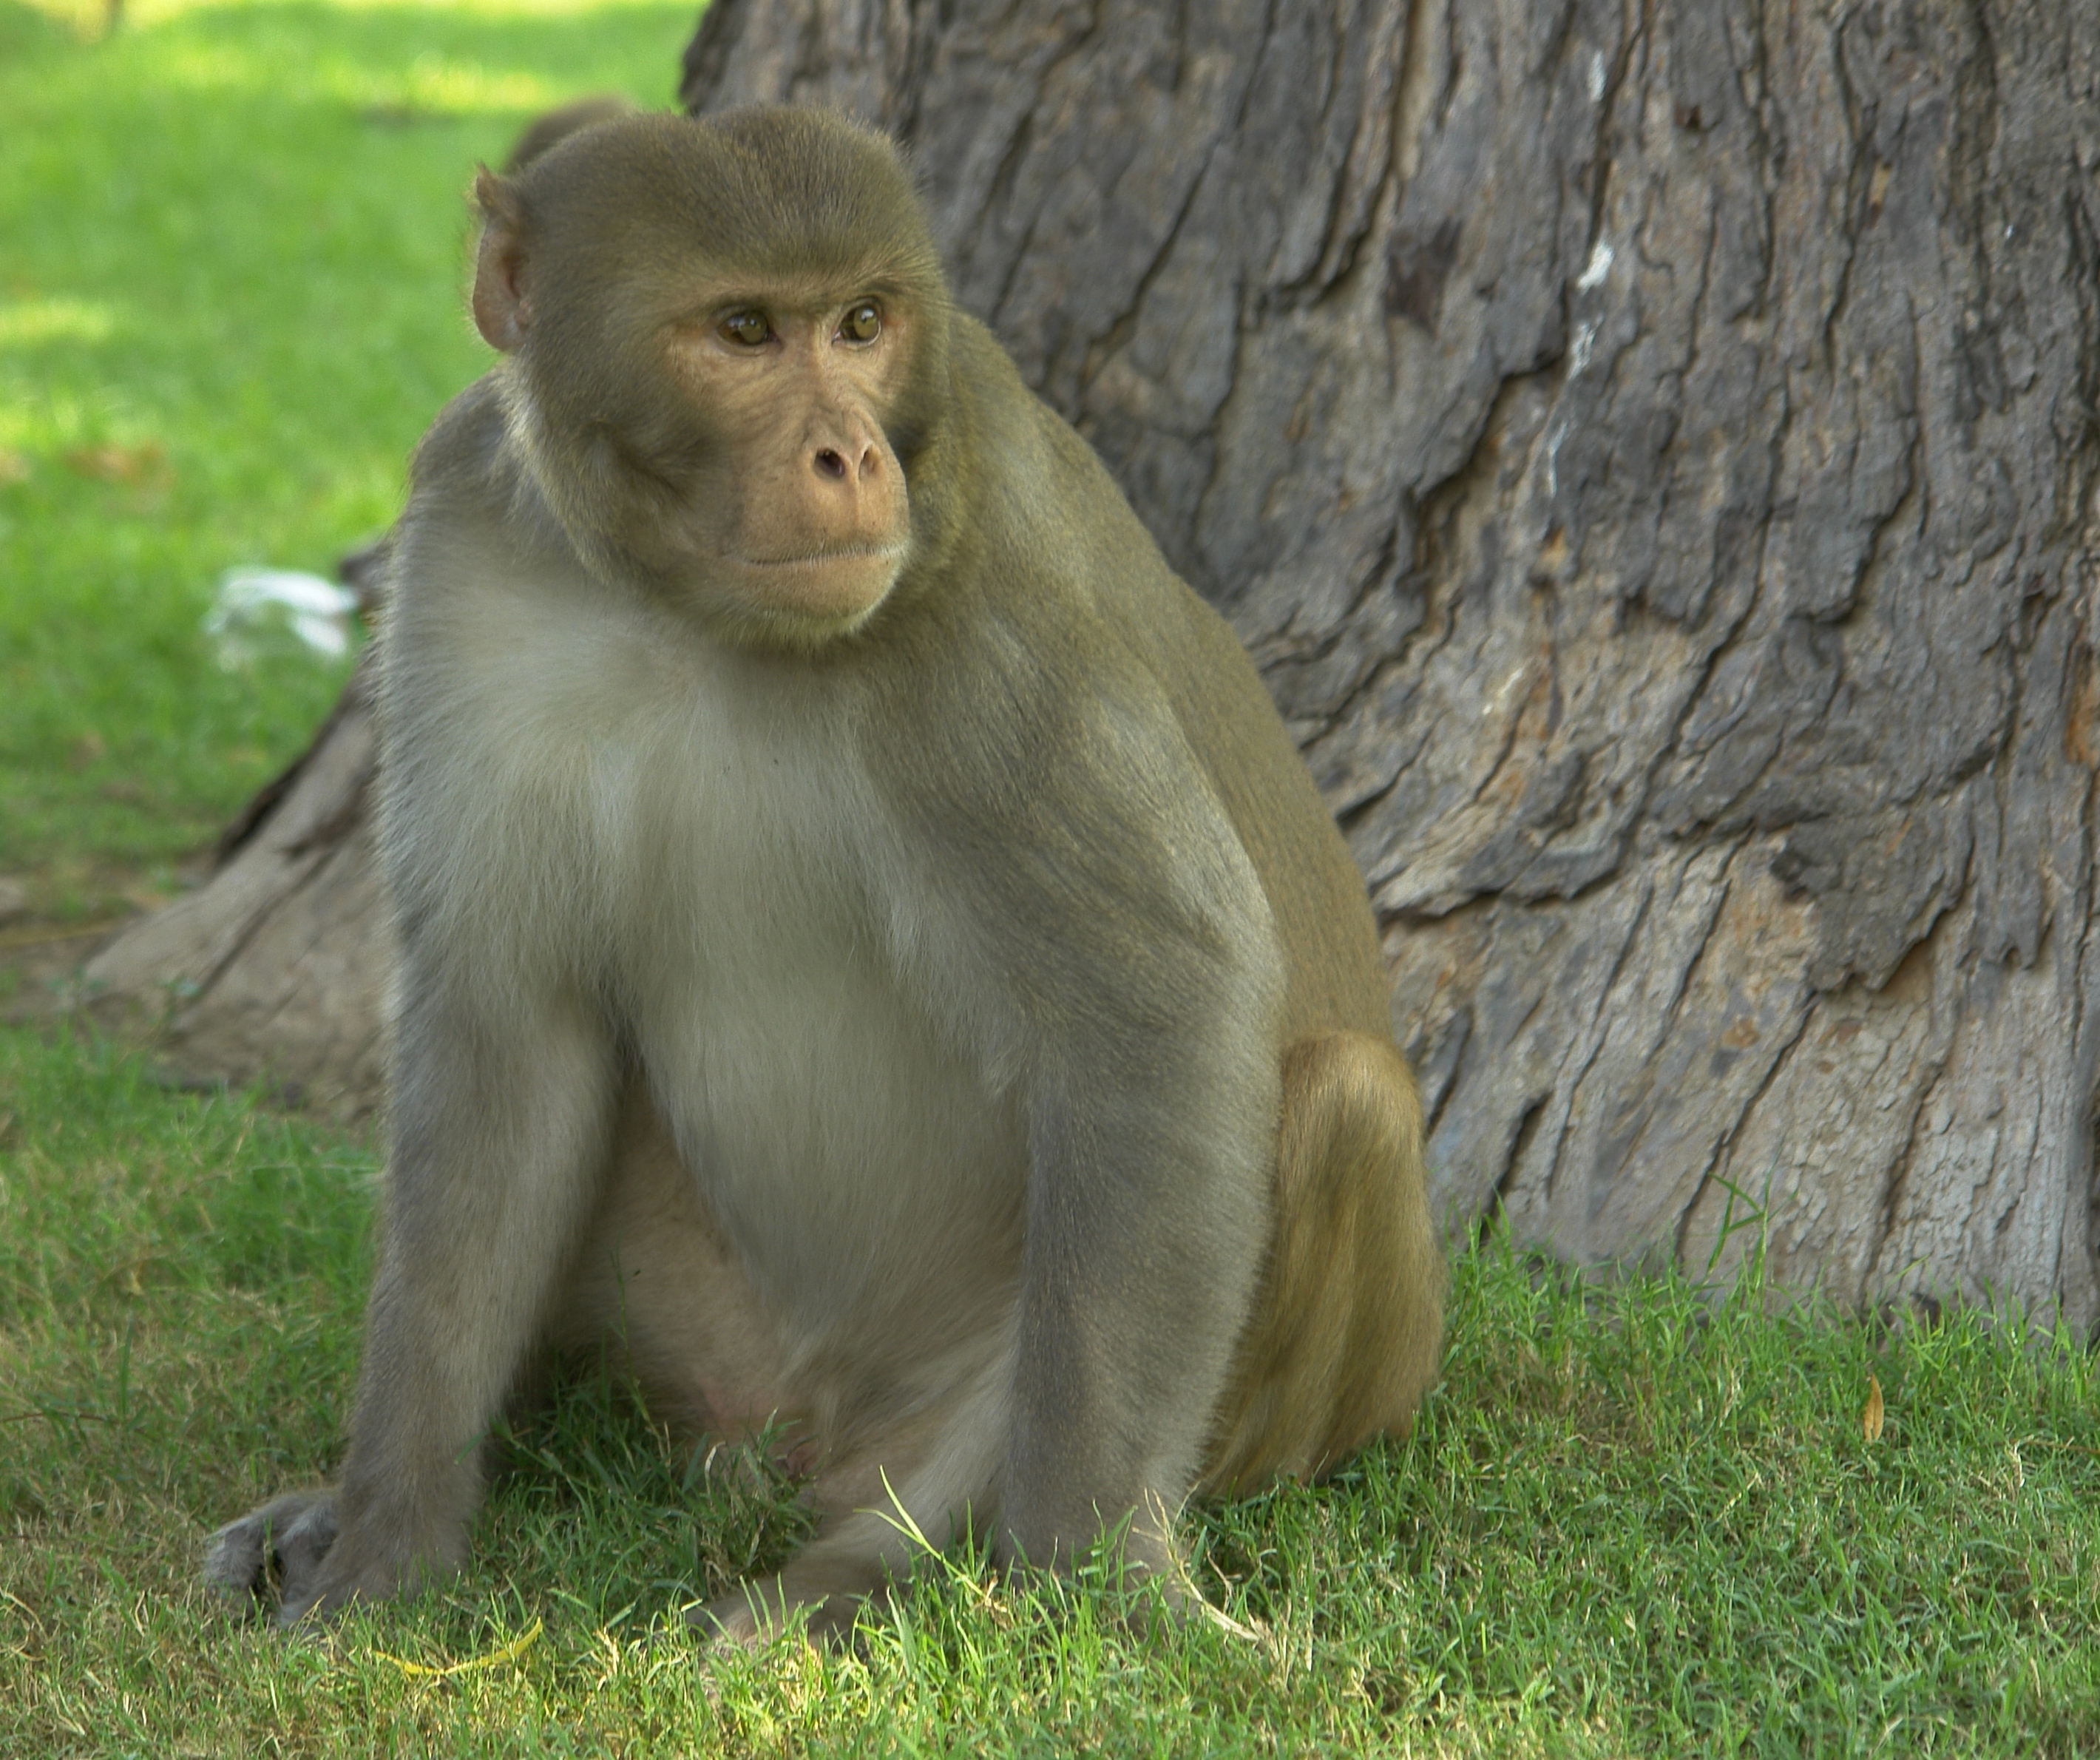monkey: (166, 61, 1521, 1688)
